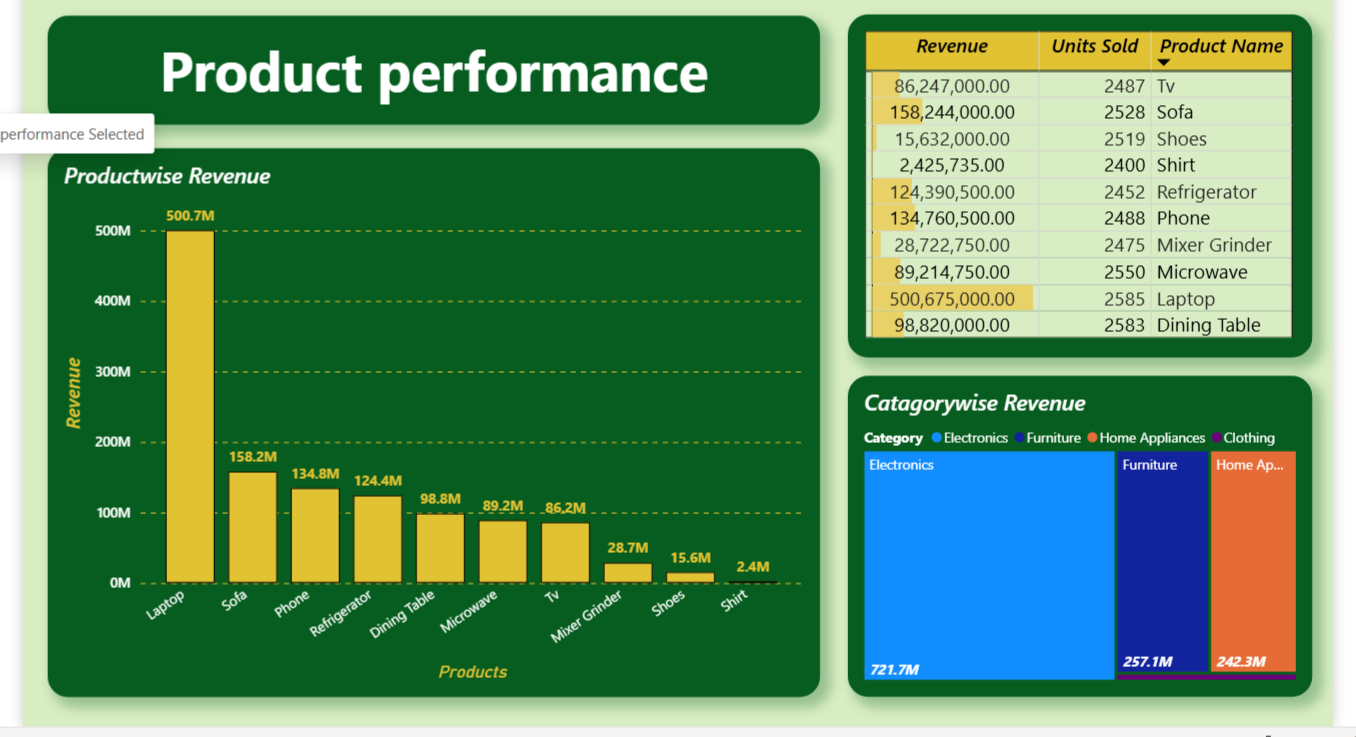

The page's visual inventory and layout, read from the dashboard file:
{"tool":"powerbi","page":{"name":"Product performance","canvas":[1280,720],"ordinal":2},"visuals":[{"type":"textbox","box":[24.7,26,754.3,106.6],"z":0},{"type":"treemap","title":"Catagorywise Revenue ","fields":{"Group":["retail_silver.category"],"Values":["retail_silver.Total Revenue"]},"box":[806.4,377.2,453.9,313.4],"z":1000},{"type":"tableEx","fields":{"Values":["Sum(gold_top_products.total_revenue)","Sum(gold_top_products.units_sold)","gold_top_products.product_name"]},"box":[806.4,24.7,453.9,335.6],"z":2000},{"type":"columnChart","title":"Productwise Revenue ","fields":{"Y":["Sum(gold_top_products.total_revenue)"],"Category":["gold_top_products.product_name"]},"box":[24.7,154.8,754.3,535.8],"z":3000}]}

Visuals, with their boxes on the page's 1280x720 design canvas (x1, y1, x2, y2). These are canvas units, not pixel positions in the 1356x737 screenshot, which may show the page scaled, cropped or inside an application window:
textbox: [25,26,779,133]
"Catagorywise Revenue " treemap: [806,377,1260,691]
tableEx - Sum(gold_top_products.total_revenue) x Sum(gold_top_products.units_sold): [806,25,1260,360]
"Productwise Revenue " columnChart: [25,155,779,691]
